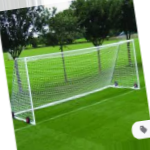goals: (10, 38, 140, 124)
